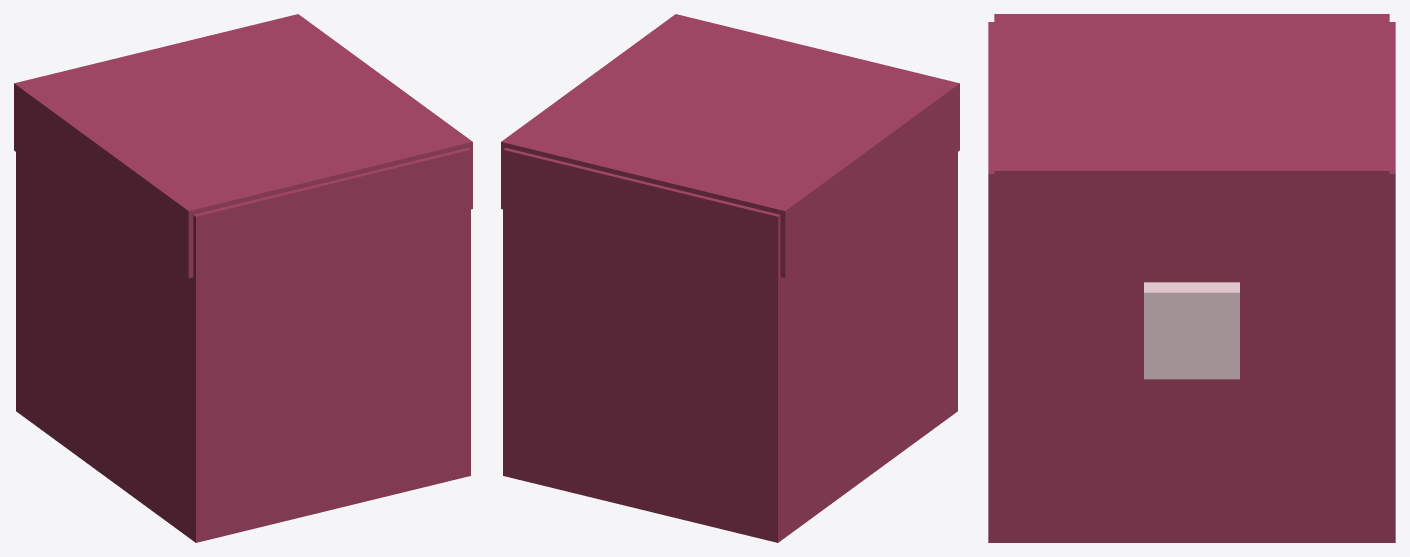
Rendered from furisode_manga_sup.glb.
3 views of the same model, side by side, from view 1: azimuth 30°, elevation 25°; view 2: azimuth 150°, elevation 25°; view 3: azimuth 270°, elevation 25° (orthographic). The views are drawn at different scales.
Parts seen in each view (by area): view 1: furisode_manga_sup; view 2: furisode_manga_sup; view 3: furisode_manga_sup.
Boxes of the visible parts, left/top/right/bottom form: furisode_manga_sup: left=14, top=14, right=472, bottom=542; furisode_manga_sup: left=501, top=14, right=959, bottom=542; furisode_manga_sup: left=988, top=14, right=1395, bottom=542.
Bounding box in the file's own units: 0.325 × 0.345 × 0.34.
